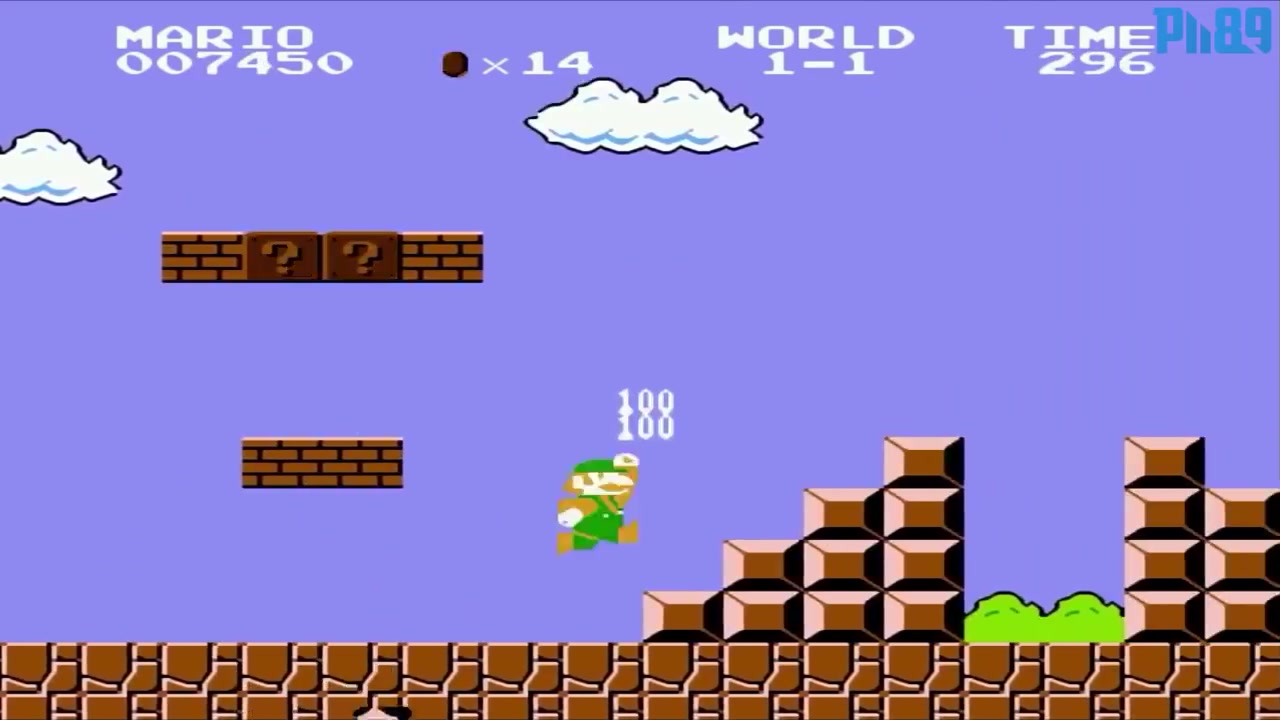mario: (543, 446, 647, 564)
